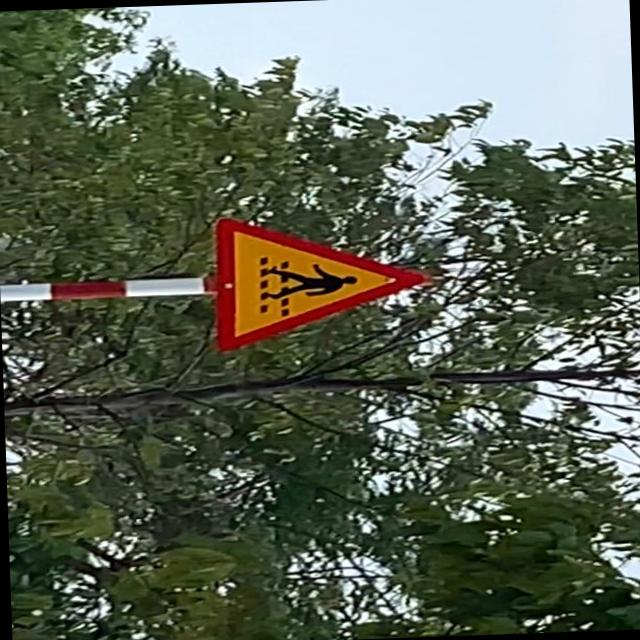W-224: (212, 212, 430, 348)
